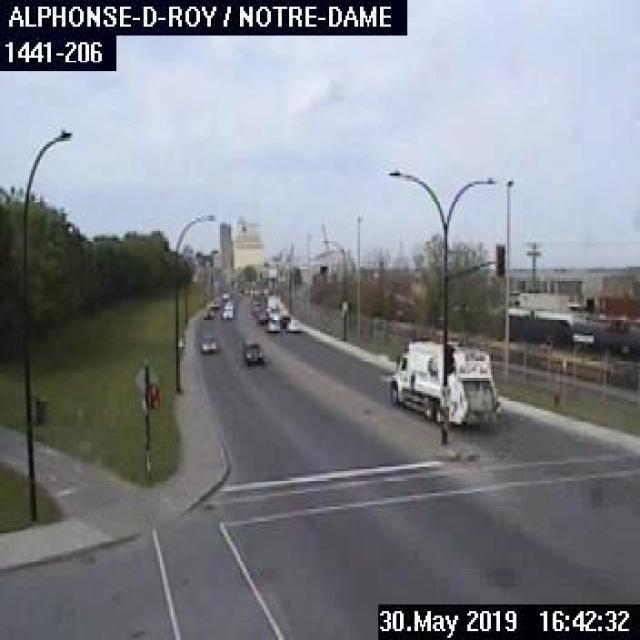vehicle: (386, 331, 498, 425), (240, 338, 267, 366), (196, 331, 218, 353), (216, 299, 233, 318), (200, 302, 216, 321)
